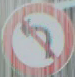Don't turn left: (5, 5, 66, 67)
